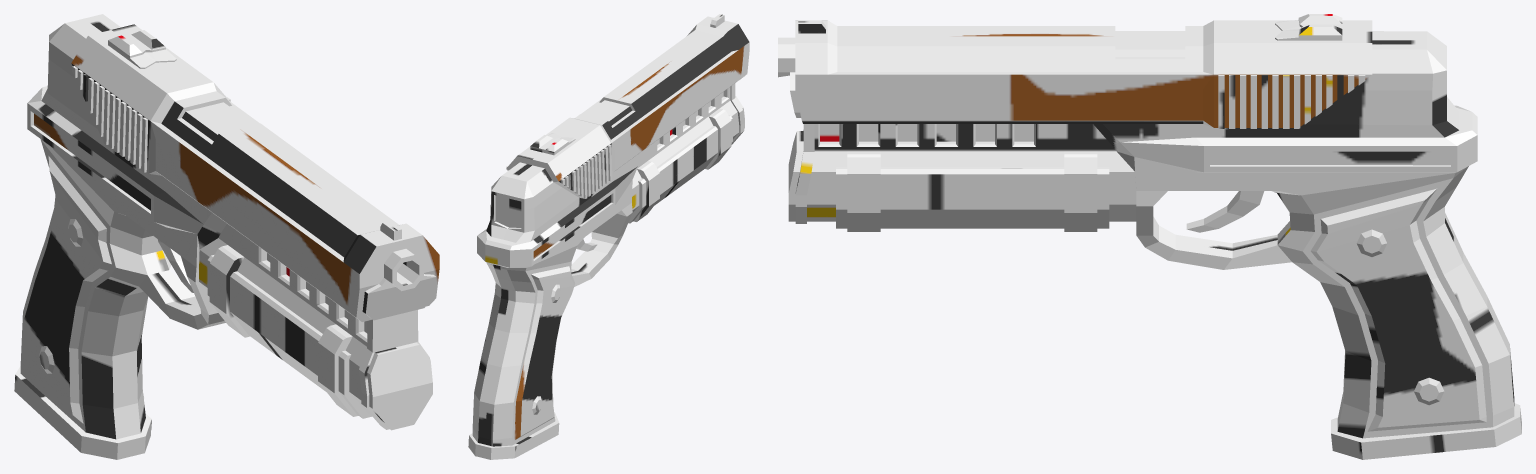
The picture shows the model from 3 angles, left to right: view 1: azimuth 30°, elevation 25°; view 2: azimuth 150°, elevation 25°; view 3: azimuth 270°, elevation 25°; orthographic projection. The views are drawn at different scales.
Visible parts, largest first — view 1: PM-74.Prosvet, Shutter, Rebrysto, PMDecor; view 2: PM-74.Prosvet, Shutter, PMDecor, Rebrysto; view 3: PM-74.Prosvet, Shutter, PMDecor, Rebrysto.
Boxes of the visible parts, x1,y1,x2,y2 form: PM-74.Prosvet: (14, 14, 436, 459); Shutter: (71, 24, 439, 321); Rebrysto: (72, 66, 230, 172); PMDecor: (34, 113, 367, 333); PM-74.Prosvet: (468, 83, 744, 459); Shutter: (506, 14, 749, 198); PMDecor: (495, 92, 723, 258); Rebrysto: (506, 144, 612, 198); PM-74.Prosvet: (778, 31, 1521, 459); Shutter: (795, 14, 1372, 127); PMDecor: (820, 124, 1450, 165); Rebrysto: (1218, 75, 1365, 128).
Size of the model in its own units: 0.1235 by 0.5683 by 0.9045.
